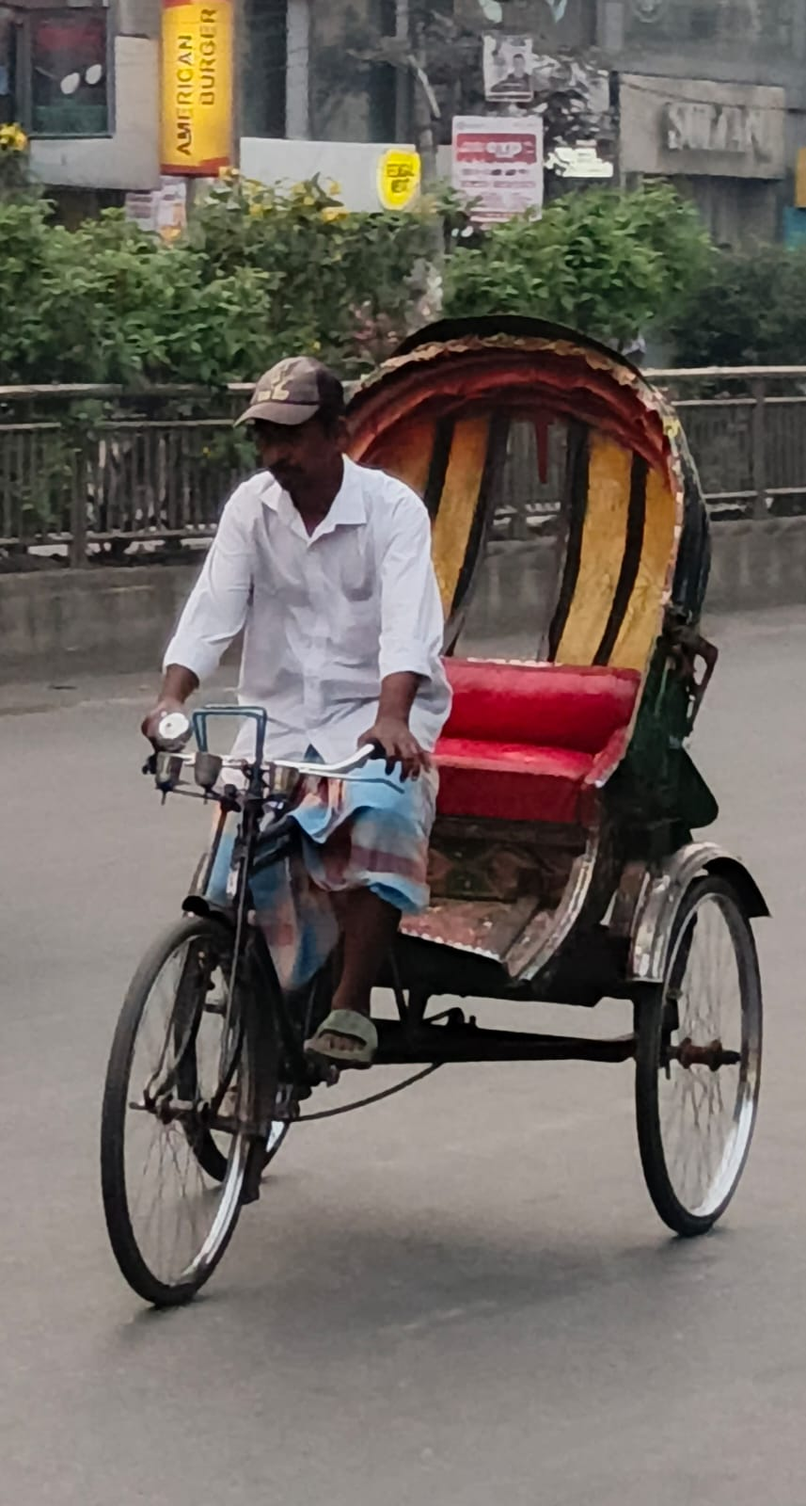auto-ricksaw: (66, 308, 786, 1437)
